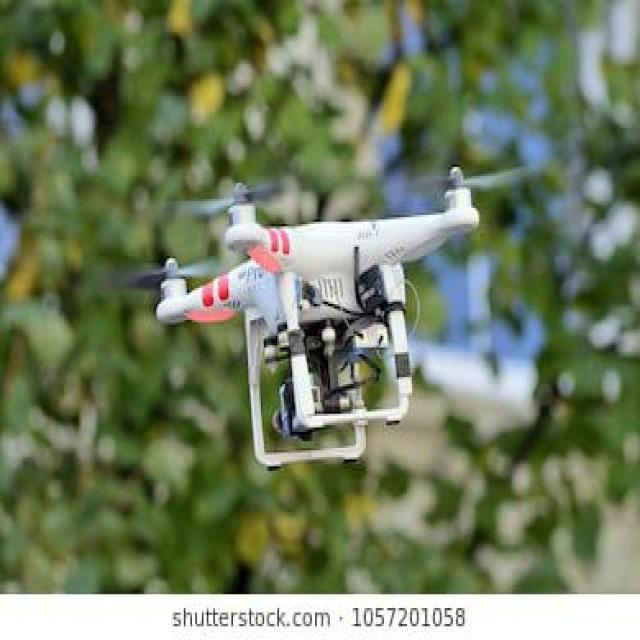drone: (101, 136, 552, 487)
